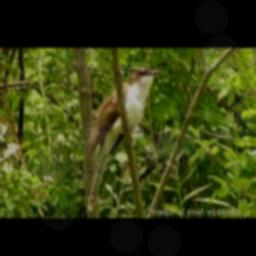Cuckoo: (87, 66, 163, 212)
